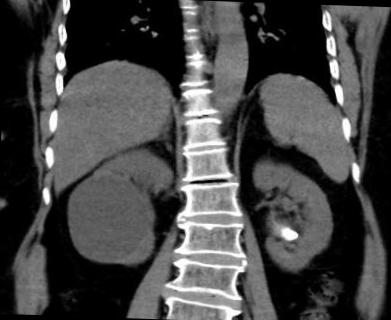Tas_Var: (276, 223, 302, 245)
